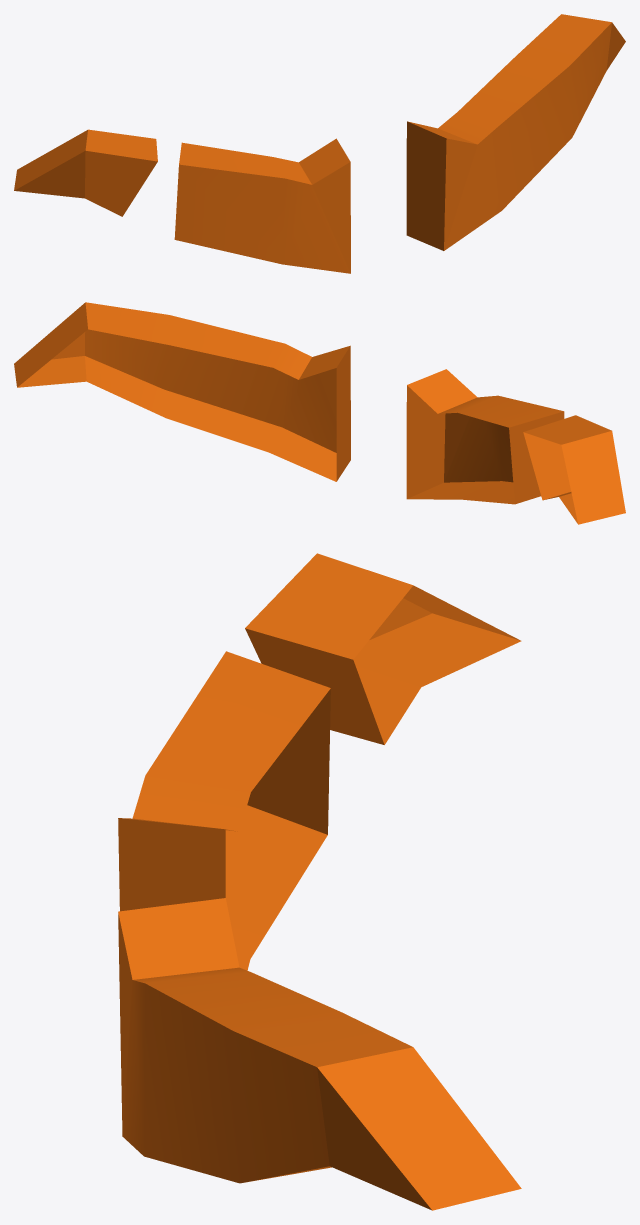
The model's file is Brow_Orange_9.fbx.
The picture shows the model from 3 angles, top to bottom: view 1: azimuth 30°, elevation 25°; view 2: azimuth 150°, elevation 25°; view 3: azimuth 270°, elevation 25°; orthographic projection. The views are drawn at different scales.
Parts seen in each view (by area): view 1: Brow_Orange_9; view 2: Brow_Orange_9; view 3: Brow_Orange_9.
Boxes of the visible parts, x1=… form: Brow_Orange_9: x1=14, y1=14, x2=625, y2=273; Brow_Orange_9: x1=14, y1=302, x2=625, y2=524; Brow_Orange_9: x1=118, y1=553, x2=521, y2=1210.
Bounding box in the file's own units: 41.99 × 9.24 × 11.99.
